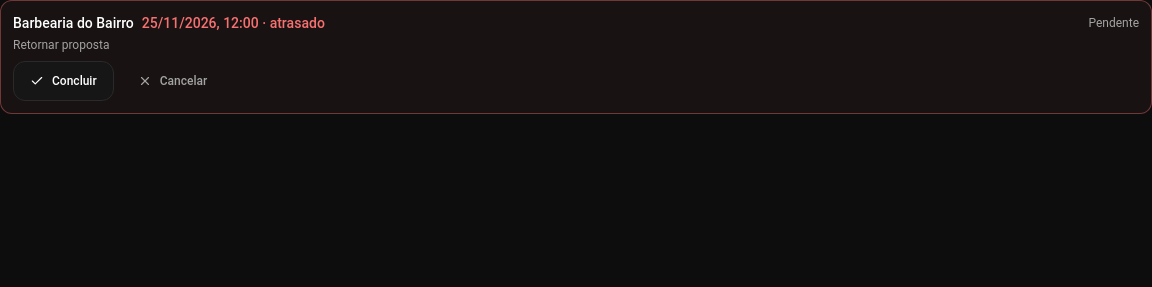
it: FollowupItem conclusão › conclui com o resultado aparado, pinta a linha da RPC e notifica o dono da lista
Step 1. Click the button with aria-label "Concluir follow-up" → (63, 81), box top-left (13, 61), bottom-right (114, 101)
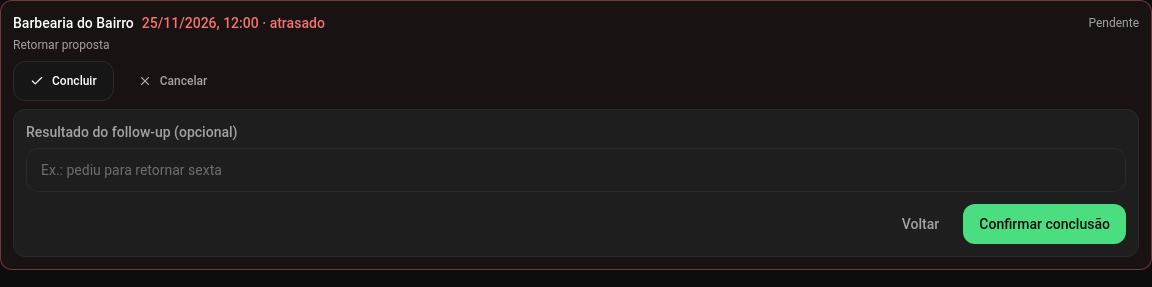
Step 2. Type "  Pediu retorno  " into the field labelled "Resultado do follow-up (opcional)" → (576, 170), box top-left (26, 148), bottom-right (1126, 192)
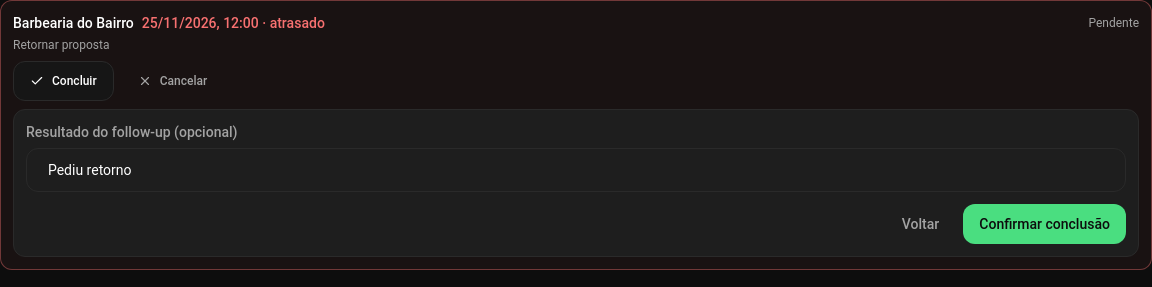
Step 3. Click the button "Confirmar conclusão" → (1045, 224), box top-left (963, 204), bottom-right (1126, 244)
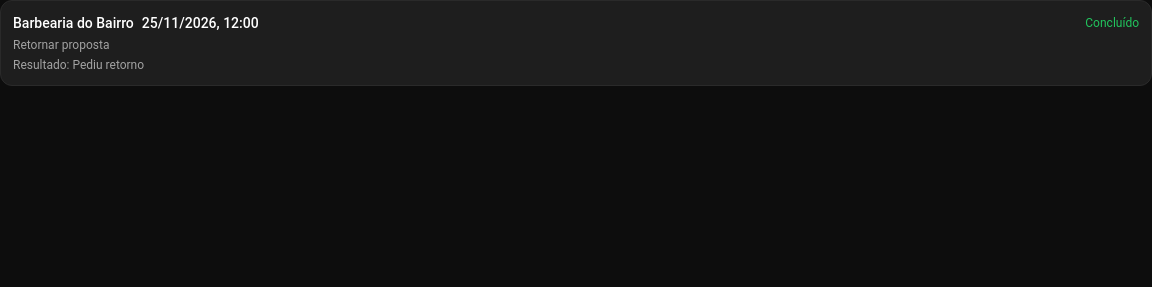
expect the text "Concluído" is shown: met, box top-left (1085, 15), bottom-right (1139, 31)
